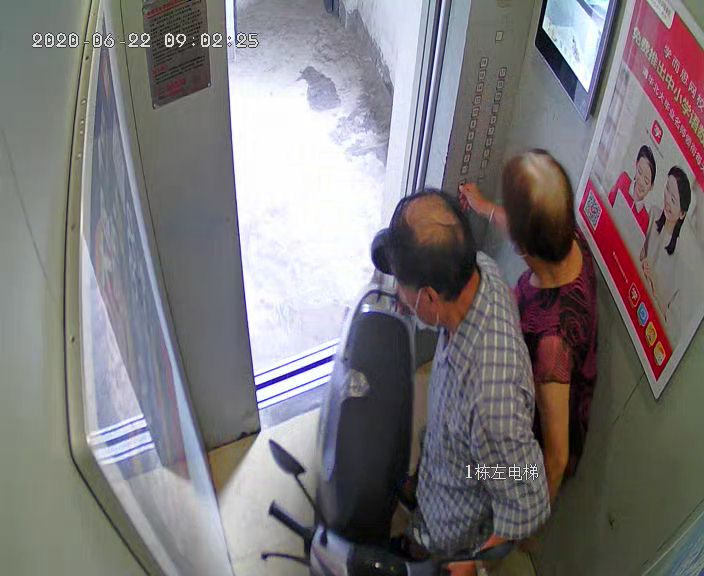Electric-bicycle: (264, 286, 508, 576)
